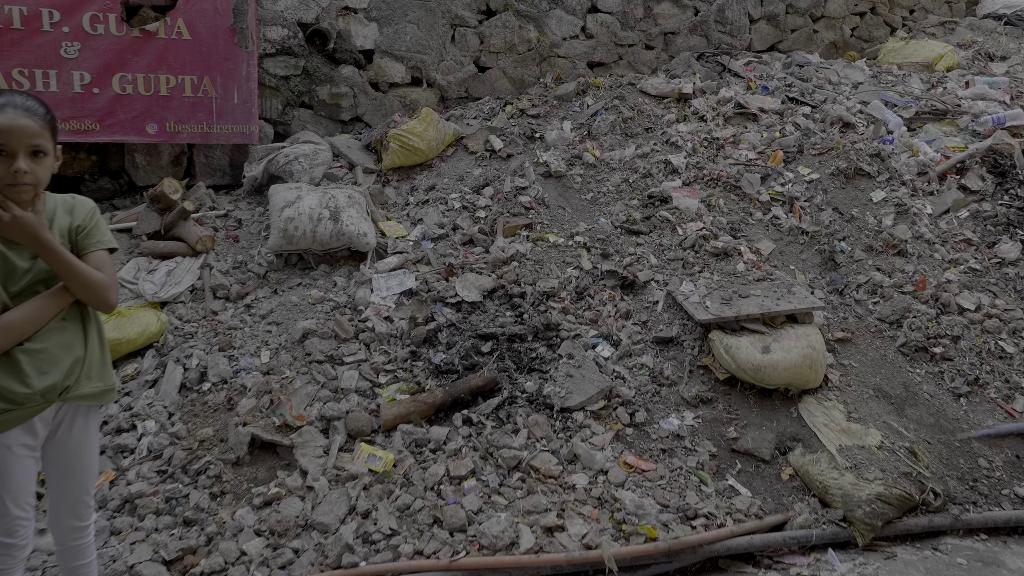garbage: (116, 245, 214, 310), (368, 116, 468, 175), (881, 28, 965, 83), (861, 96, 917, 136), (348, 439, 398, 475), (370, 262, 419, 298), (967, 110, 1024, 133)
